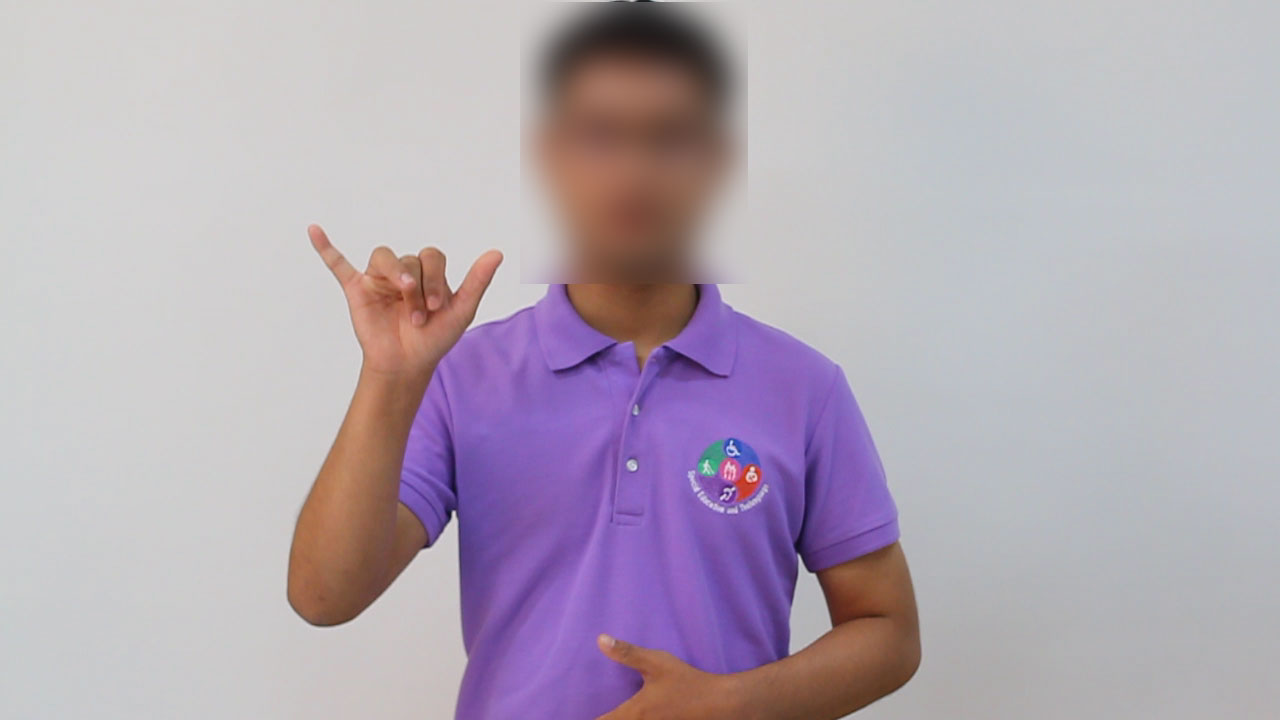yor: (300, 212, 513, 374)
